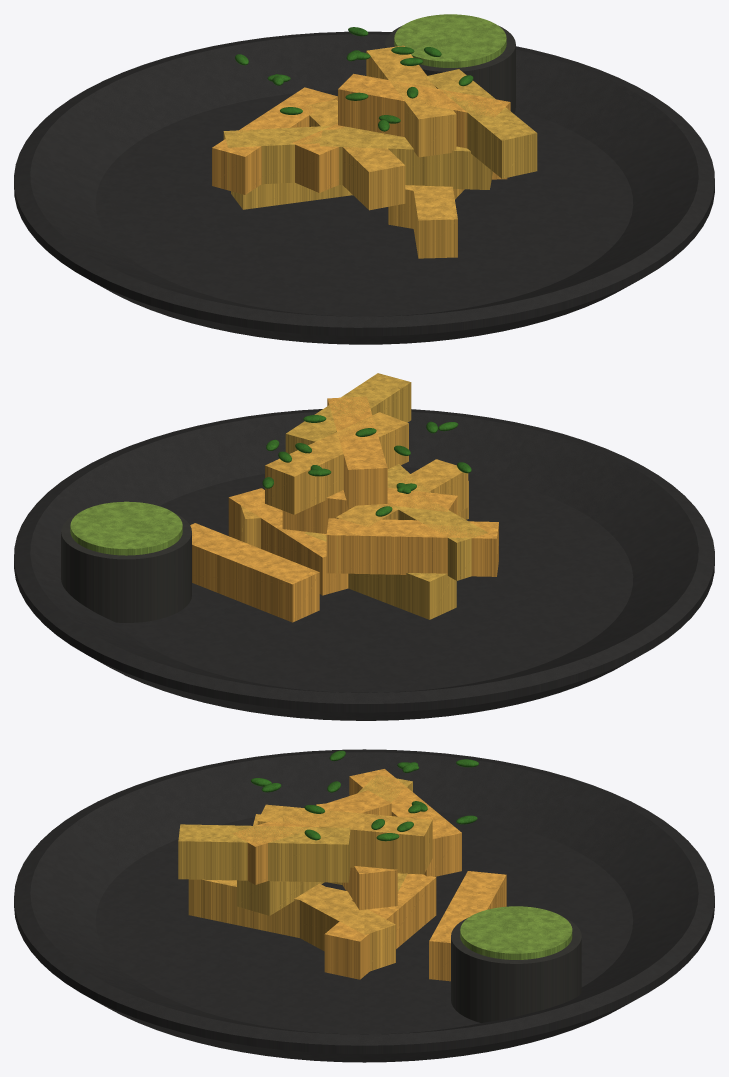
File: yuca-crocante.glb
The picture shows the model from 3 angles, top to bottom: view 1: azimuth 30°, elevation 25°; view 2: azimuth 150°, elevation 25°; view 3: azimuth 270°, elevation 25°; orthographic projection.
Parts seen in each view (by area): view 1: part0, part3, part2, part1, part5, part4, part6; view 2: part0, part1, part3, part2, part4, part5, part6; view 3: part0, part1, part2, part3, part4, part5, part6.
Boxes of the visible parts, left/top/right/bottom form: part0: left=14, top=31, right=714, bottom=344; part3: left=223, top=69, right=537, bottom=209; part2: left=303, top=45, right=464, bottom=258; part1: left=212, top=73, right=510, bottom=194; part5: left=394, top=14, right=506, bottom=67; part4: left=385, top=25, right=515, bottom=113; part6: left=235, top=27, right=473, bottom=131; part0: left=14, top=409, right=714, bottom=720; part1: left=190, top=396, right=498, bottom=622; part3: left=285, top=373, right=488, bottom=619; part2: left=240, top=412, right=468, bottom=548; part4: left=61, top=513, right=191, bottom=622; part5: left=70, top=501, right=182, bottom=555; part6: left=262, top=415, right=471, bottom=516; part0: left=14, top=749, right=714, bottom=1062; part1: left=232, top=769, right=506, bottom=981; part2: left=188, top=804, right=432, bottom=971; part3: left=178, top=775, right=412, bottom=915; part4: left=451, top=917, right=581, bottom=1022; part5: left=460, top=906, right=572, bottom=959; part6: left=251, top=750, right=478, bottom=841.
Bounding box in the file's own units: 0.3 × 0.0715 × 0.3.
Materials: 7 (7 with a texture image).
